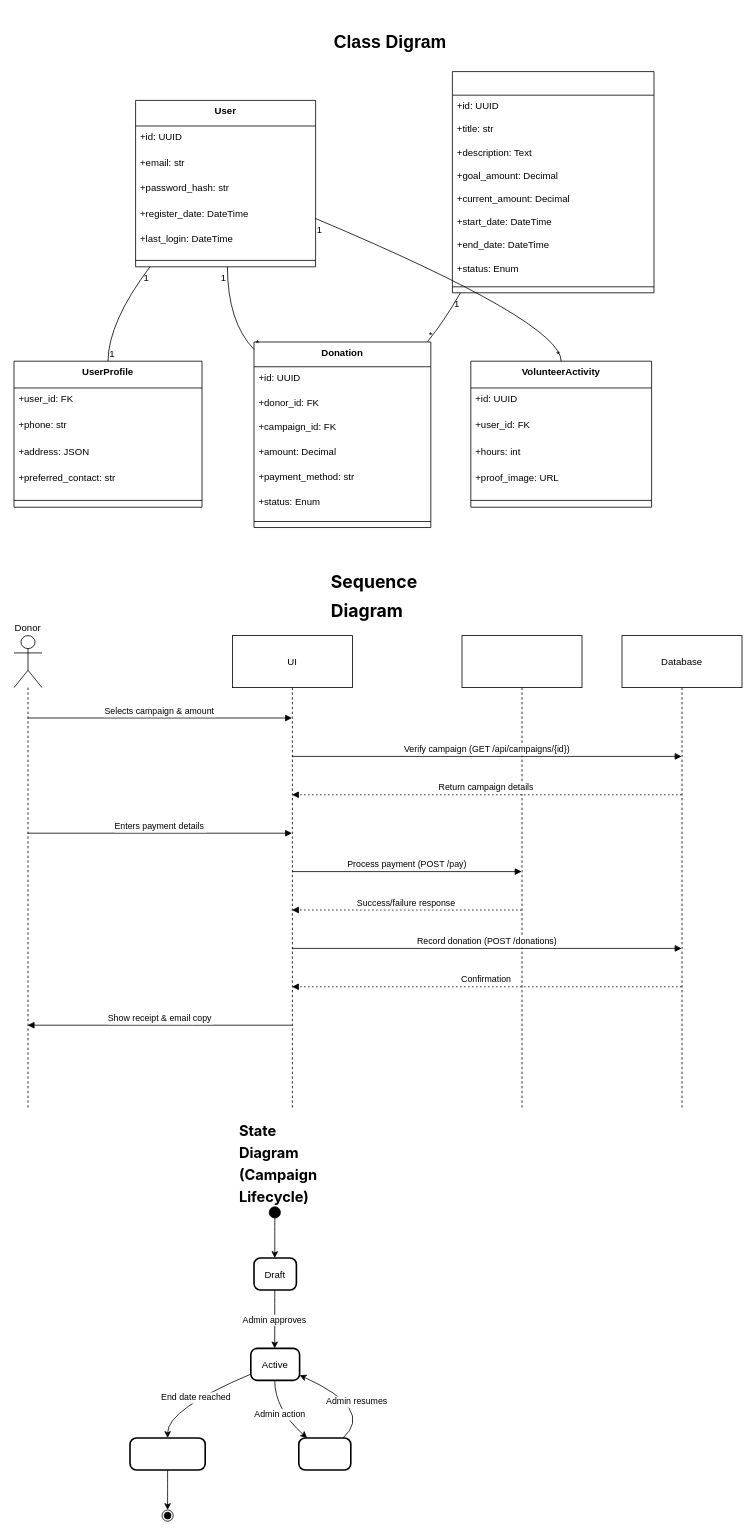
This 756x1535 diagram has some shape labels left out. The shapes that lost their labels are listed below. From the top down, each one's box as (x1, y1, x2, y2) in pixels, then its label:
(452, 71, 654, 293): Campaign
(461, 635, 582, 1109): PaymentGateway
(129, 1437, 206, 1470): Completed
(298, 1437, 351, 1470): Paused
